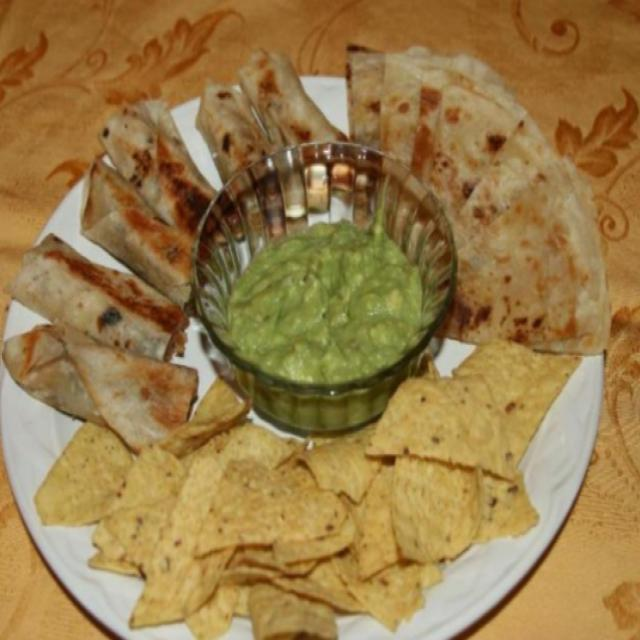Spring Rolls: (7, 49, 336, 432)
